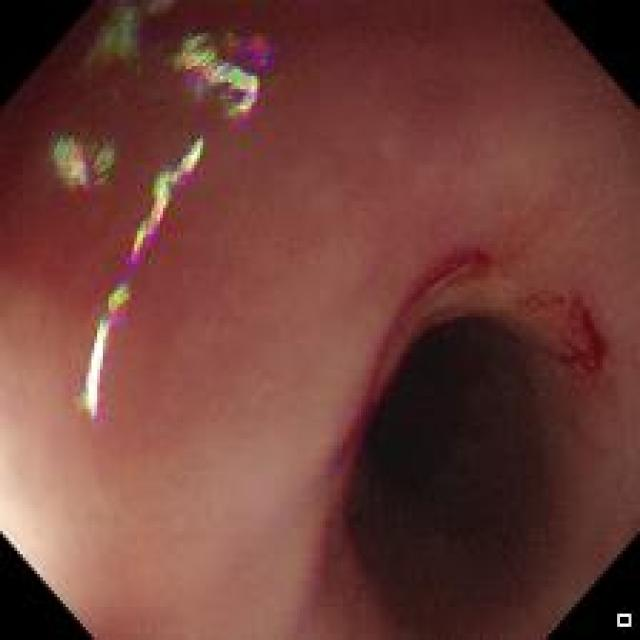blood: (559, 293, 608, 373)
color misalignment: (74, 137, 203, 426), (167, 32, 288, 133), (80, 2, 177, 75), (54, 133, 121, 198), (618, 612, 631, 629)
contrast: (354, 319, 555, 566)
specularity: (88, 331, 106, 407)
